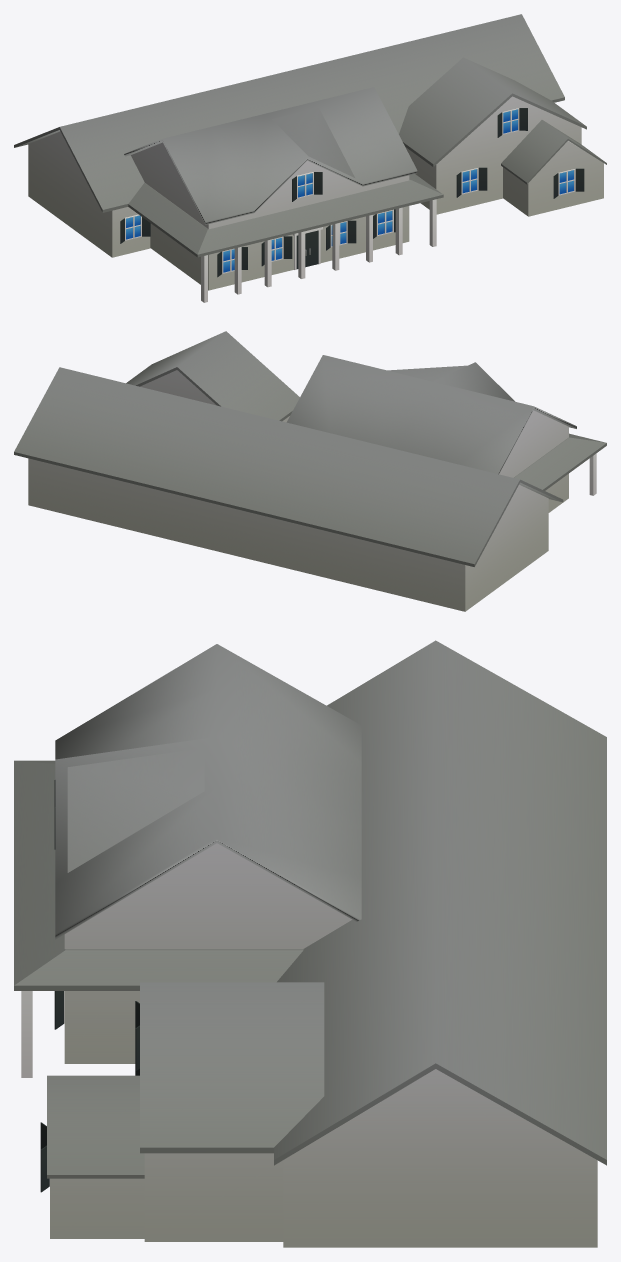
Rendered from bighouse.fbx.
3 views of the same model, one above another, from view 1: azimuth 30°, elevation 25°; view 2: azimuth 150°, elevation 25°; view 3: azimuth 270°, elevation 25° (orthographic). The views are drawn at different scales.
Visible parts, largest first — view 1: roof, roof2, pCube6, roof4, roof1, pCube5, pCube8, pCube10, roof3, window11, window10, window3 (+7 smaller); view 2: roof, pCube5, roof2, roof1, pCube6, roof4, pCube8; view 3: roof, roof2, pCube5, roof1, pCube6, roof4, pCube8, roof3, pCube10, pillar3.
Part boxes in pixels (x1,y1,x2,y2): roof: [14, 14, 564, 212]; roof2: [124, 87, 417, 224]; pCube6: [131, 142, 409, 290]; roof4: [128, 174, 443, 257]; roof1: [399, 57, 586, 166]; pCube5: [28, 131, 150, 257]; pCube8: [405, 96, 581, 214]; pCube10: [503, 141, 603, 216]; roof3: [501, 120, 606, 184]; window11: [553, 168, 584, 198]; window10: [456, 167, 487, 197]; window3: [292, 172, 322, 201]; roof: [14, 367, 563, 566]; pCube5: [28, 458, 548, 611]; roof2: [286, 355, 576, 474]; roof1: [126, 331, 299, 421]; pCube6: [499, 410, 568, 512]; roof4: [514, 433, 606, 490]; pCube8: [140, 370, 289, 422]; roof: [274, 640, 606, 1165]; roof2: [55, 644, 361, 939]; pCube5: [283, 1069, 597, 1247]; roof1: [140, 982, 324, 1153]; pCube6: [64, 843, 352, 1063]; roof4: [14, 760, 303, 990]; pCube8: [144, 1153, 283, 1241]; roof3: [47, 1075, 144, 1178]; pCube10: [50, 1178, 144, 1238]; pillar3: [21, 991, 32, 1077].
Size of the model in its own units: 365 by 93.69 by 217.
1 material, 1 textured.
